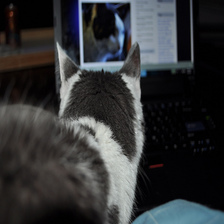laptop: (47, 2, 224, 177)
